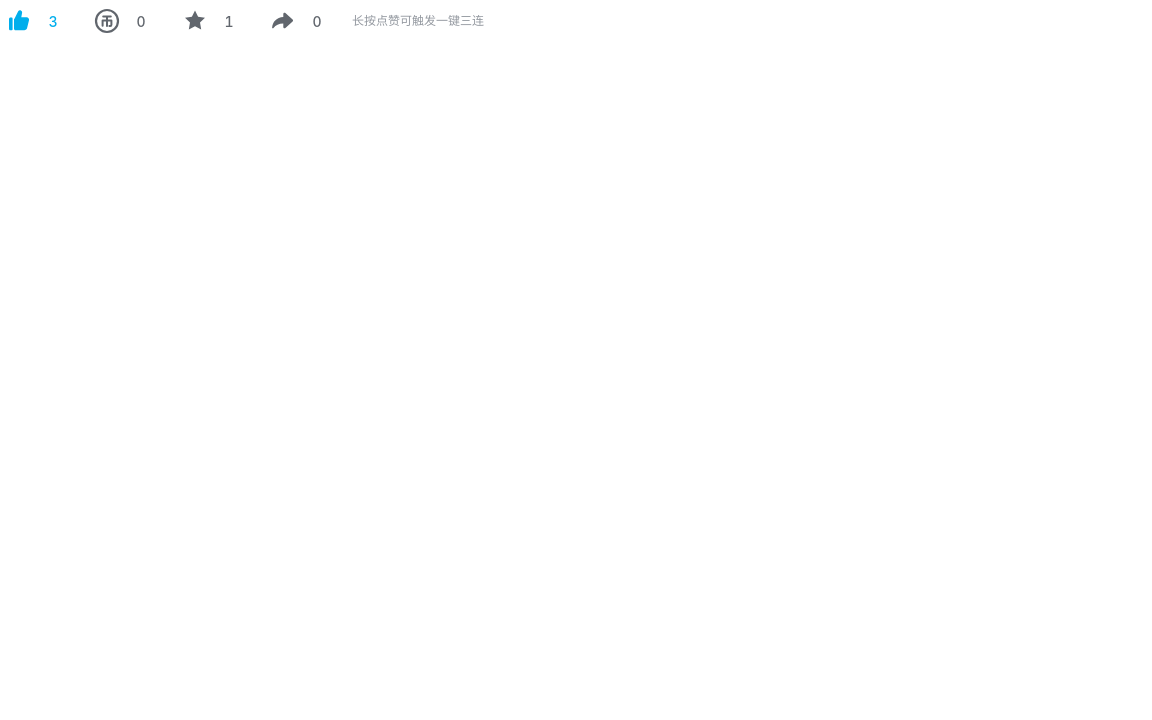
Test case: VideoActionBar 点赞投币收藏与三连 › 余额不足点击投币弹出明确提醒
Click the button named "投币".
click(118, 21)  # box 88,0 -> 148,42
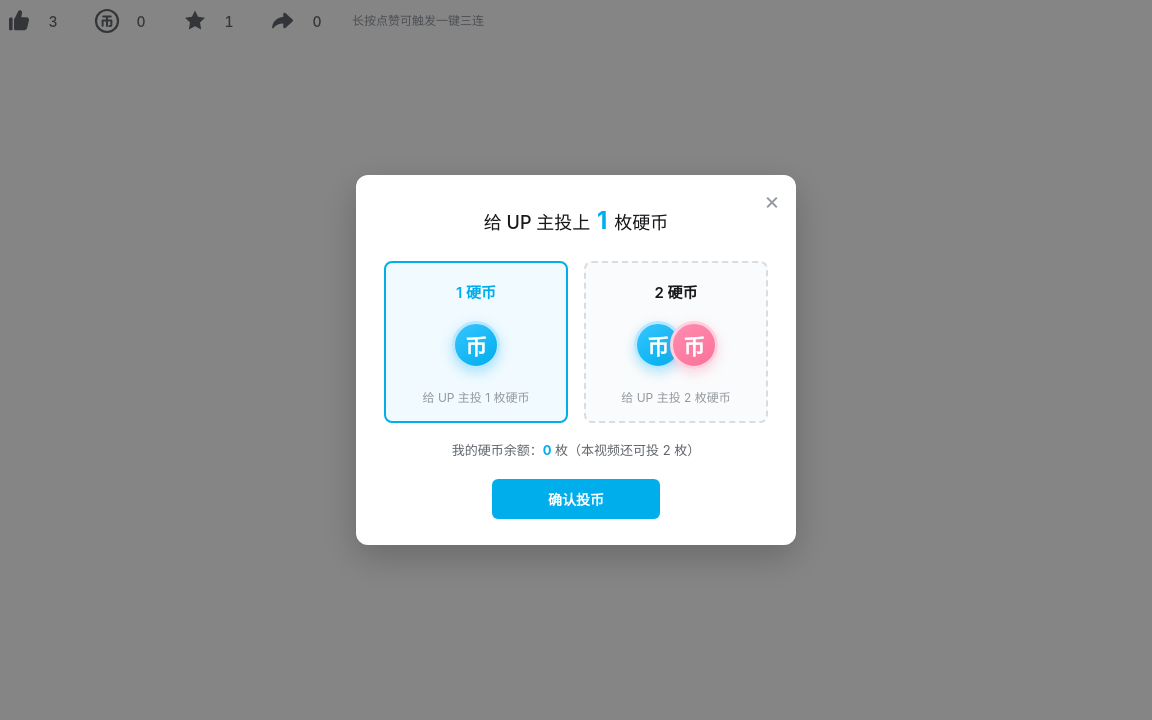
Click the button "确认投币".
click(576, 499)  # box 492,479 -> 660,519
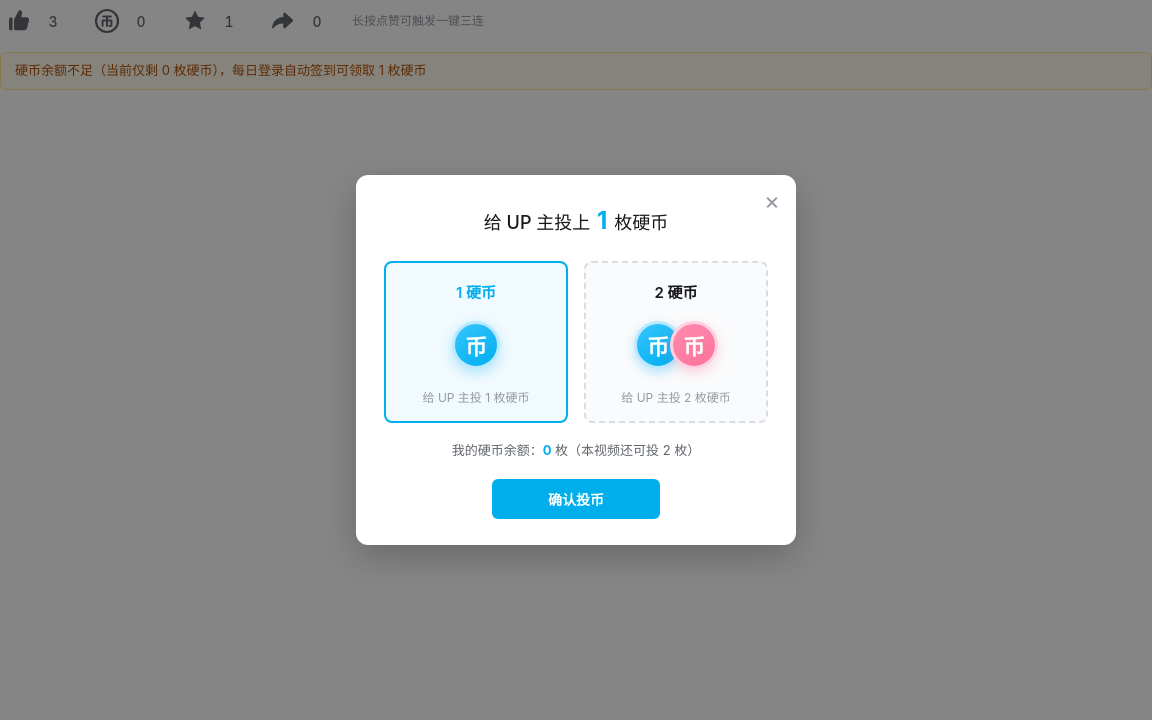
Now the message with test id "interaction-toast" shows "硬币余额不足", box 15,62 -> 427,78
